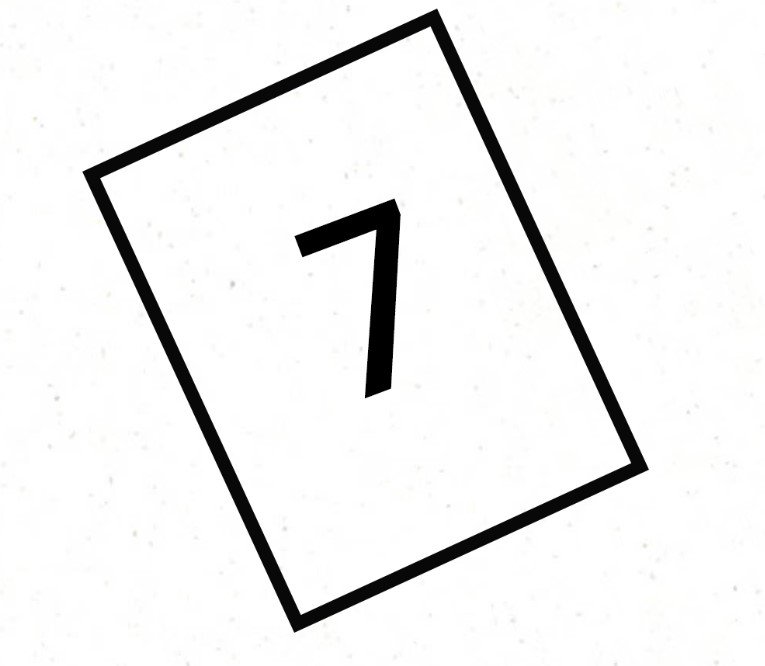seven: (241, 176, 468, 436)
